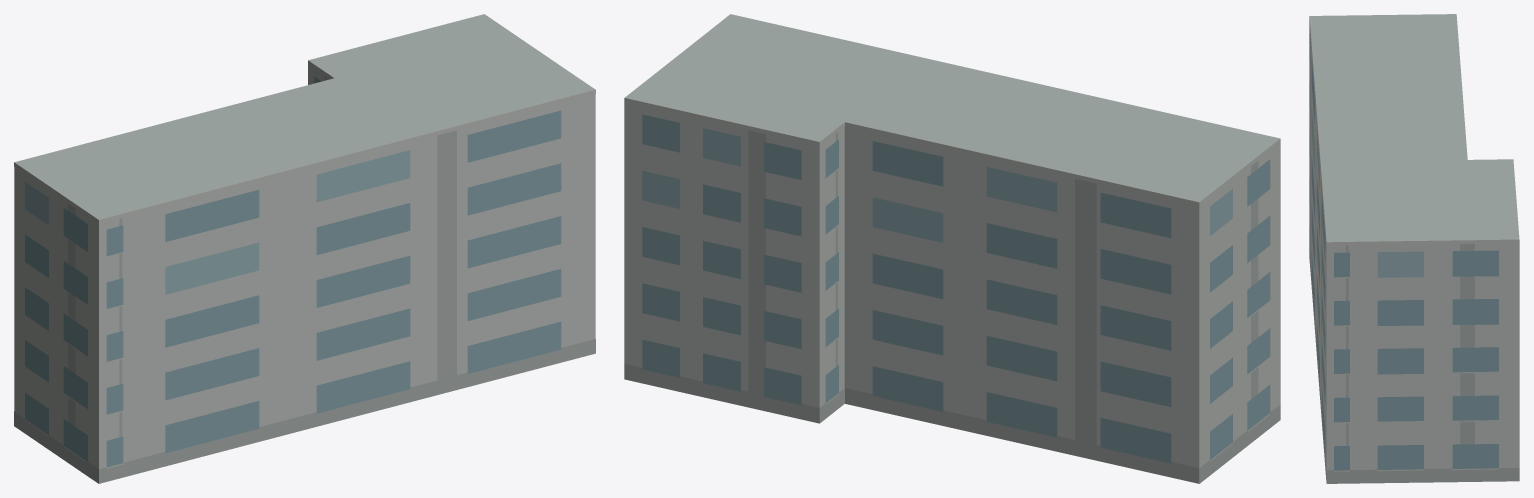
File: residential-15ac1703-4e8a-46ed-821d-9f70f01d63f8.glb
The picture shows the model from 3 angles, left to right: view 1: azimuth 30°, elevation 25°; view 2: azimuth 150°, elevation 25°; view 3: azimuth 270°, elevation 25°; orthographic projection. The views are drawn at different scales.
Visible parts, largest first — view 1: residential-15ac1703-4e8a-46ed-821d-9f70f01d63f8.tmp; view 2: residential-15ac1703-4e8a-46ed-821d-9f70f01d63f8.tmp; view 3: residential-15ac1703-4e8a-46ed-821d-9f70f01d63f8.tmp.
Boxes of the visible parts, left/top/right/bottom form: residential-15ac1703-4e8a-46ed-821d-9f70f01d63f8.tmp: left=14, top=14, right=595, bottom=483; residential-15ac1703-4e8a-46ed-821d-9f70f01d63f8.tmp: left=624, top=14, right=1280, bottom=483; residential-15ac1703-4e8a-46ed-821d-9f70f01d63f8.tmp: left=1309, top=14, right=1519, bottom=483.
Size of the model in its own units: 30.89 by 15.25 by 12.02.
